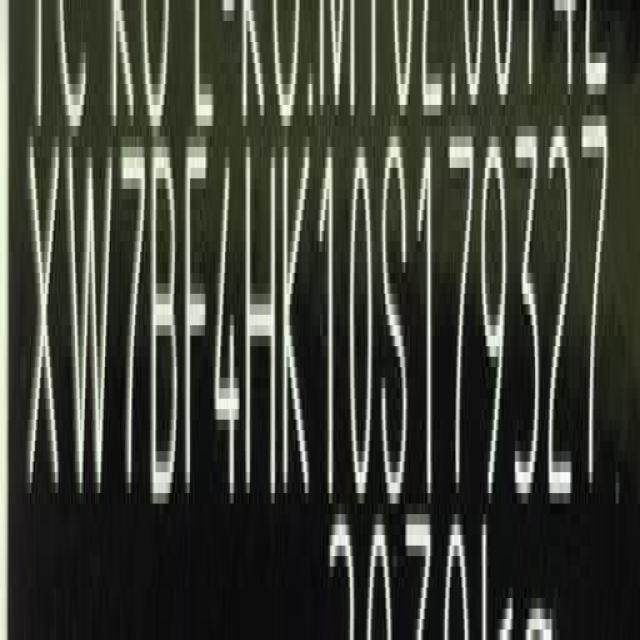0: (346, 136, 376, 509)
1: (317, 132, 338, 536), (419, 126, 437, 507)
2: (546, 116, 576, 519)
3: (383, 128, 415, 511), (516, 120, 544, 516)
4: (213, 159, 244, 518)
7: (446, 124, 476, 516), (582, 109, 610, 497), (120, 140, 148, 517)
9: (478, 125, 509, 512)
B: (148, 148, 180, 518)
F: (185, 148, 211, 509)
H: (247, 136, 280, 514)
K: (282, 132, 312, 505)
W: (67, 143, 118, 515)
X: (27, 150, 66, 518)
